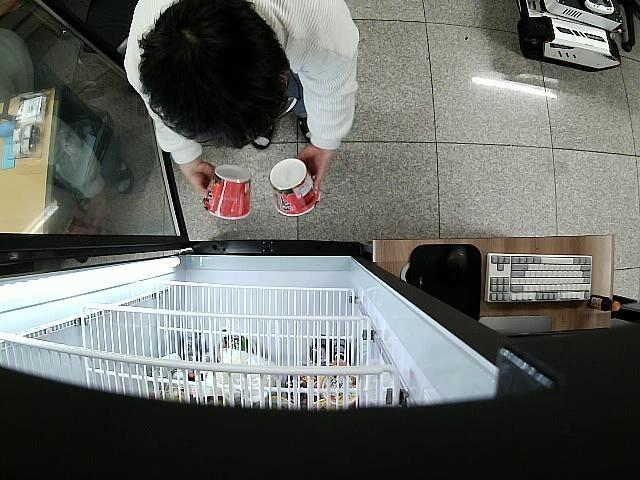01_ShinRamen_L: (268, 158, 321, 215), (202, 166, 253, 220)
